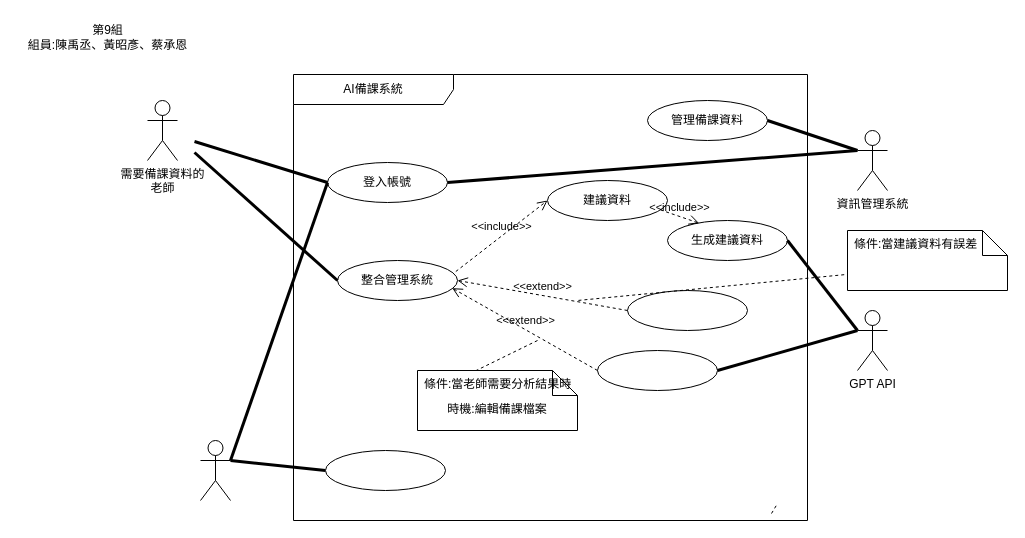
This 1025x538 diagram has some shape labels left out. Here are the shapes that lost their labels. From the top down, the centre of each, then its label:
At (x=927, y=260): "時機:建立備課資料".
At (x=687, y=310): "編輯建議備課資料".
At (x=657, y=370): "分析評量".
At (x=215, y=470): "學生".
At (x=385, y=470): "填寫評量".
